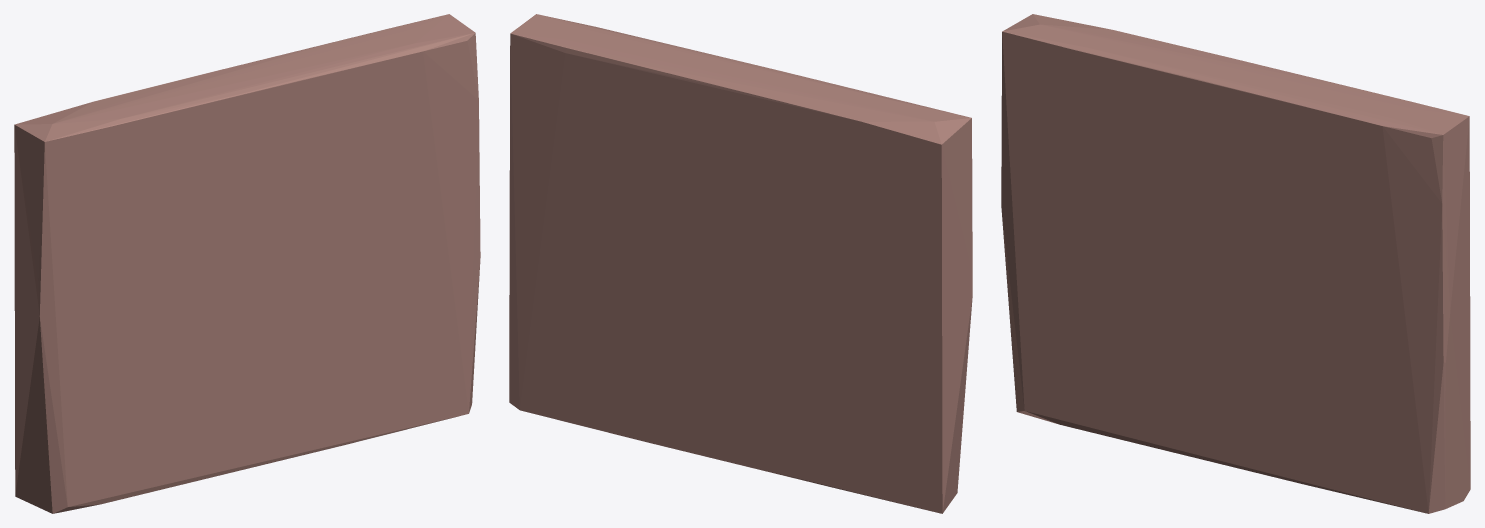
Rendered from consumable_air_filter_engine_b01.glb.
The picture shows the model from 3 angles, left to right: view 1: azimuth 30°, elevation 25°; view 2: azimuth 150°, elevation 25°; view 3: azimuth 330°, elevation 25°; orthographic projection.
Parts seen in each view (by area): view 1: geometry_0; view 2: geometry_0; view 3: geometry_0.
Part boxes in pixels (x1,y1,x2,y2): geometry_0: (14,14,480,513); geometry_0: (509,14,972,513); geometry_0: (1001,14,1470,513).
Size of the model in its own units: 0.4795 by 0.3936 by 0.0583.
